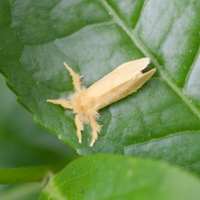insect: (47, 58, 155, 146)
